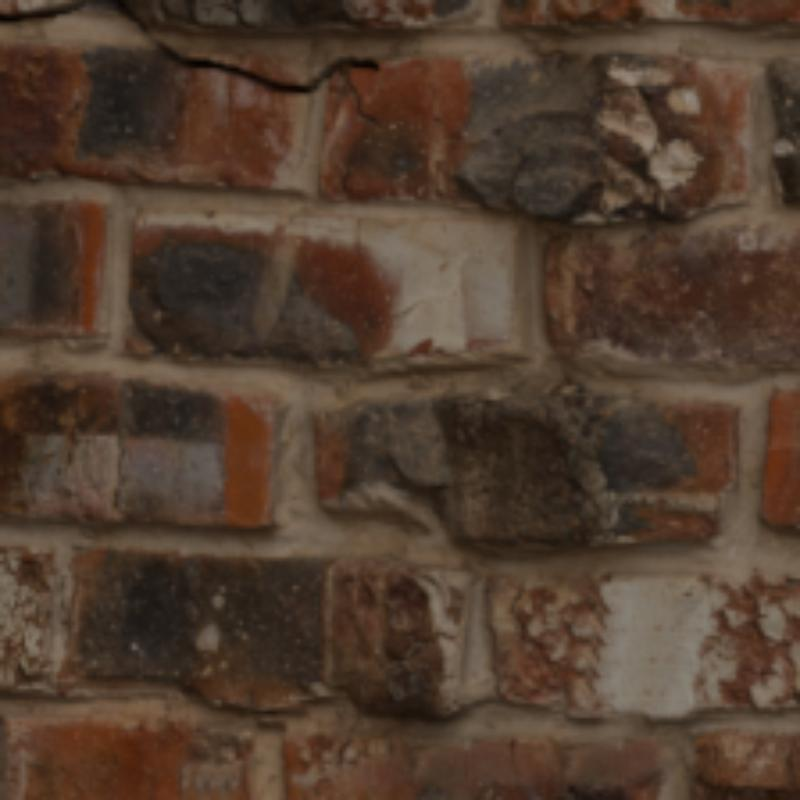pothole: (111, 0, 375, 89), (339, 68, 379, 121), (25, 0, 86, 14)
